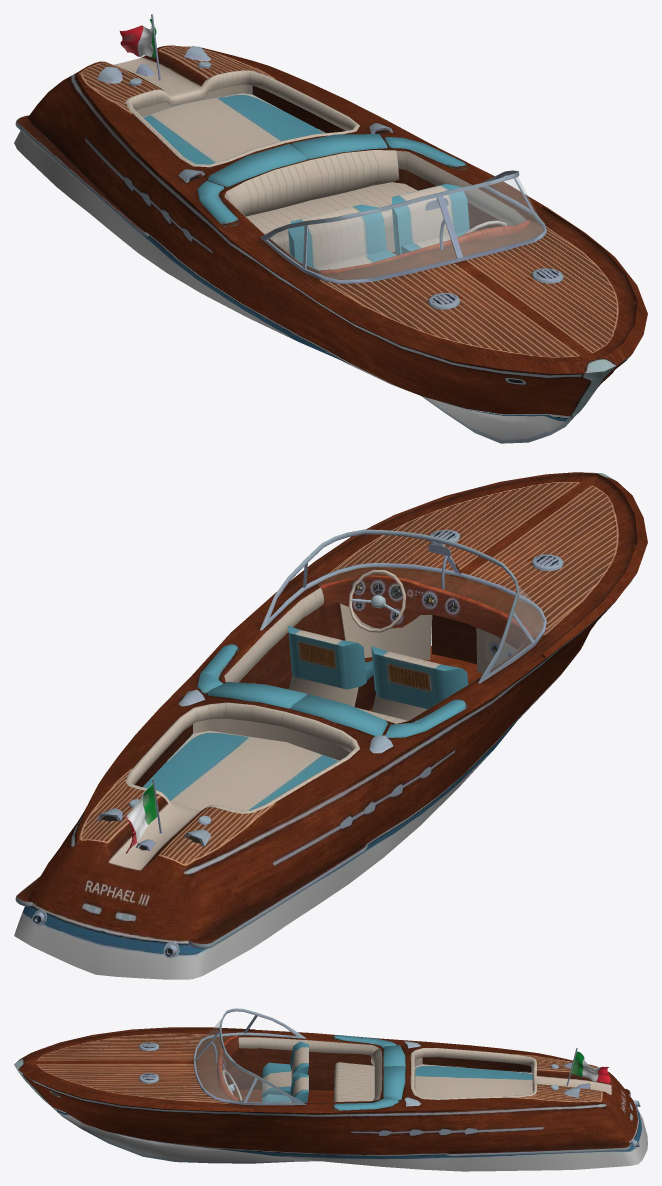
File: boat.glb
The picture shows the model from 3 angles, top to bottom: view 1: azimuth 30°, elevation 25°; view 2: azimuth 150°, elevation 25°; view 3: azimuth 270°, elevation 25°; orthographic projection. The views are drawn at different scales.
Visible parts, largest first — view 1: body; view 2: body; view 3: body.
Boxes of the visible parts, left/top/right/bottom form: body: left=14, top=14, right=647, bottom=443; body: left=14, top=472, right=647, bottom=979; body: left=14, top=1008, right=647, bottom=1171.
Size of the model in its own units: 2.52 by 1.92 by 8.2.
Materials: 2 (1 with a texture image).
